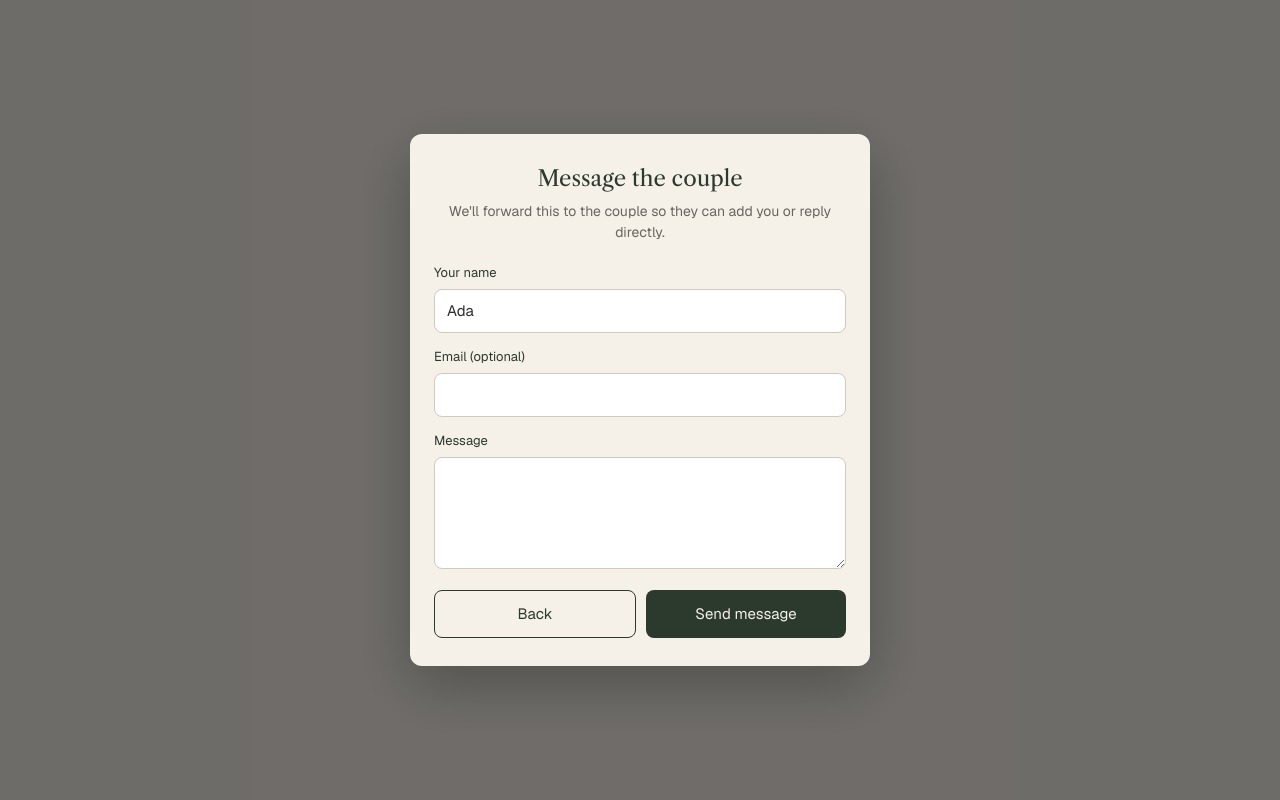
Test: <MessageCoupleModal /> › shows a server error message when the endpoint rejects
Type "hi" into the text box labelled "Message".
click(640, 512); type("hi")  # box [434,456,846,568]
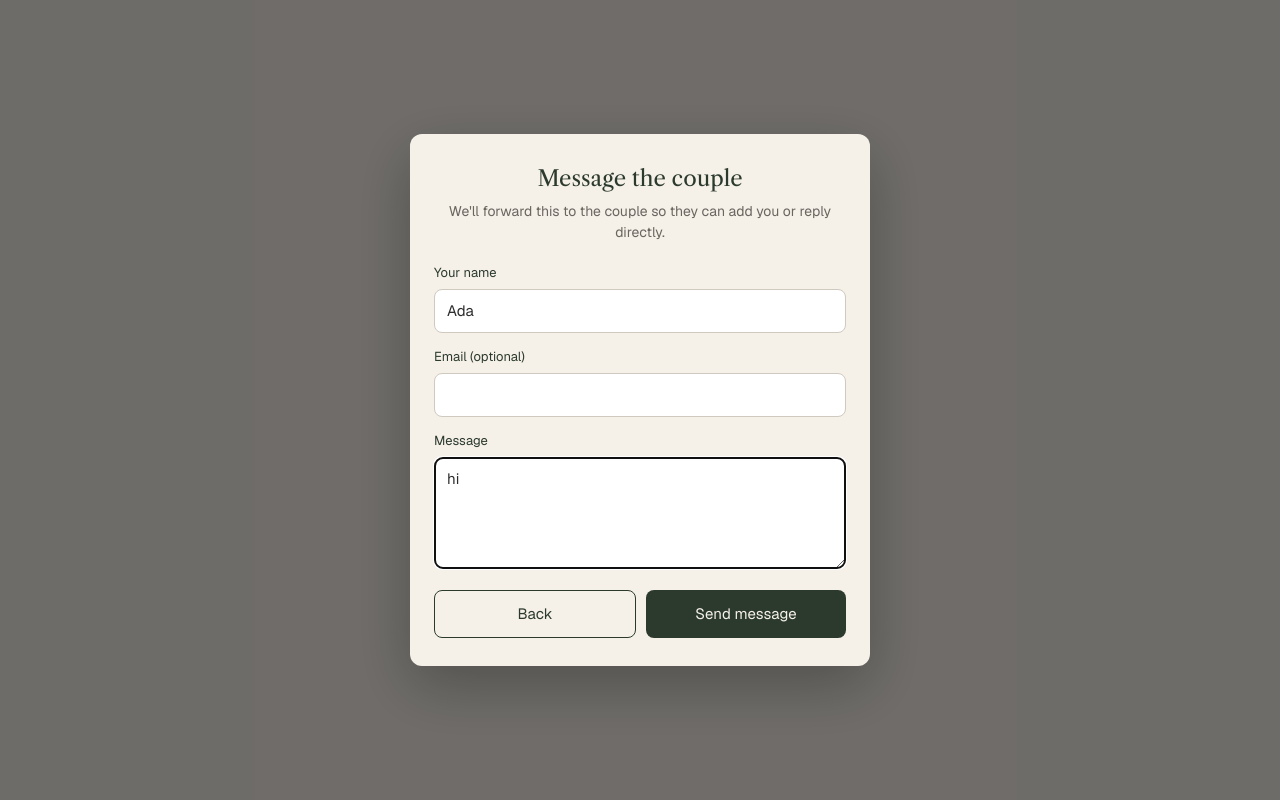
Click the button "Send message".
click(746, 614)  # box [646,590,846,638]
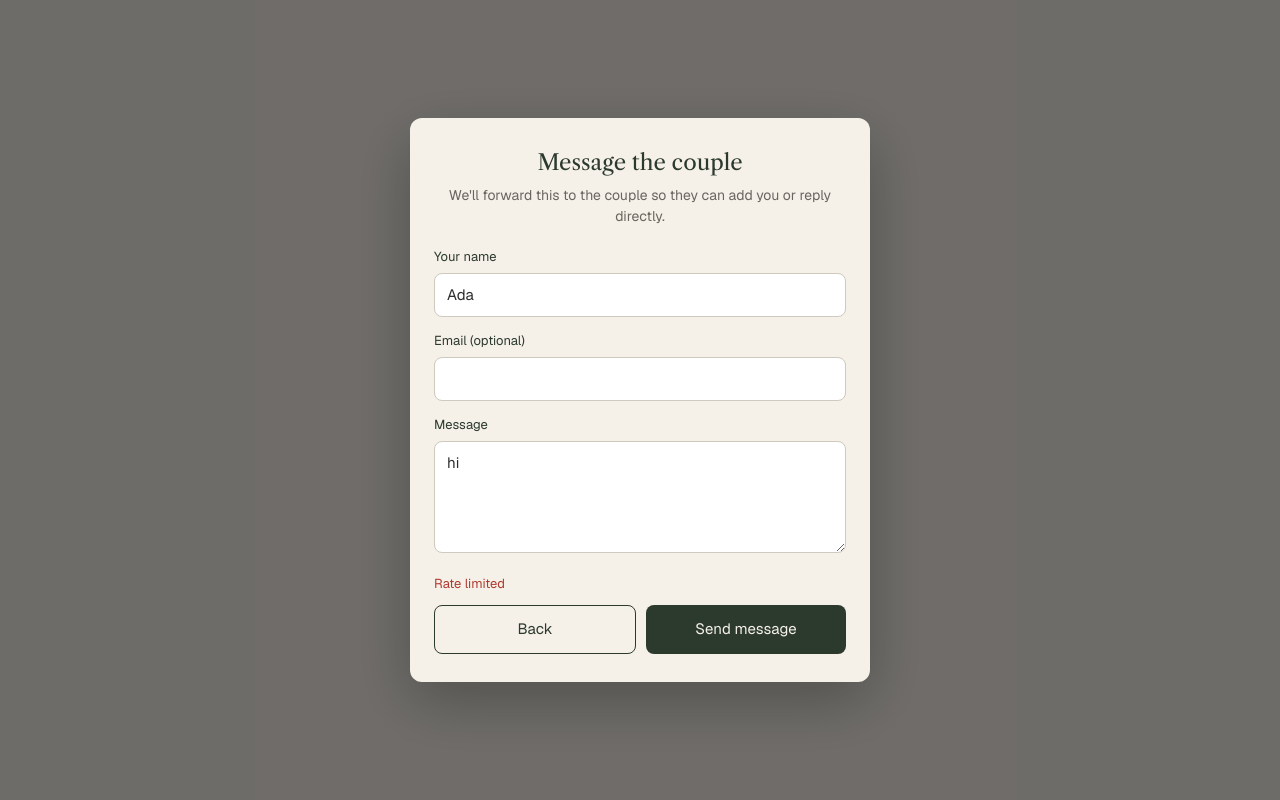
Now the message reads "Rate limited", box [434,575,505,592]
